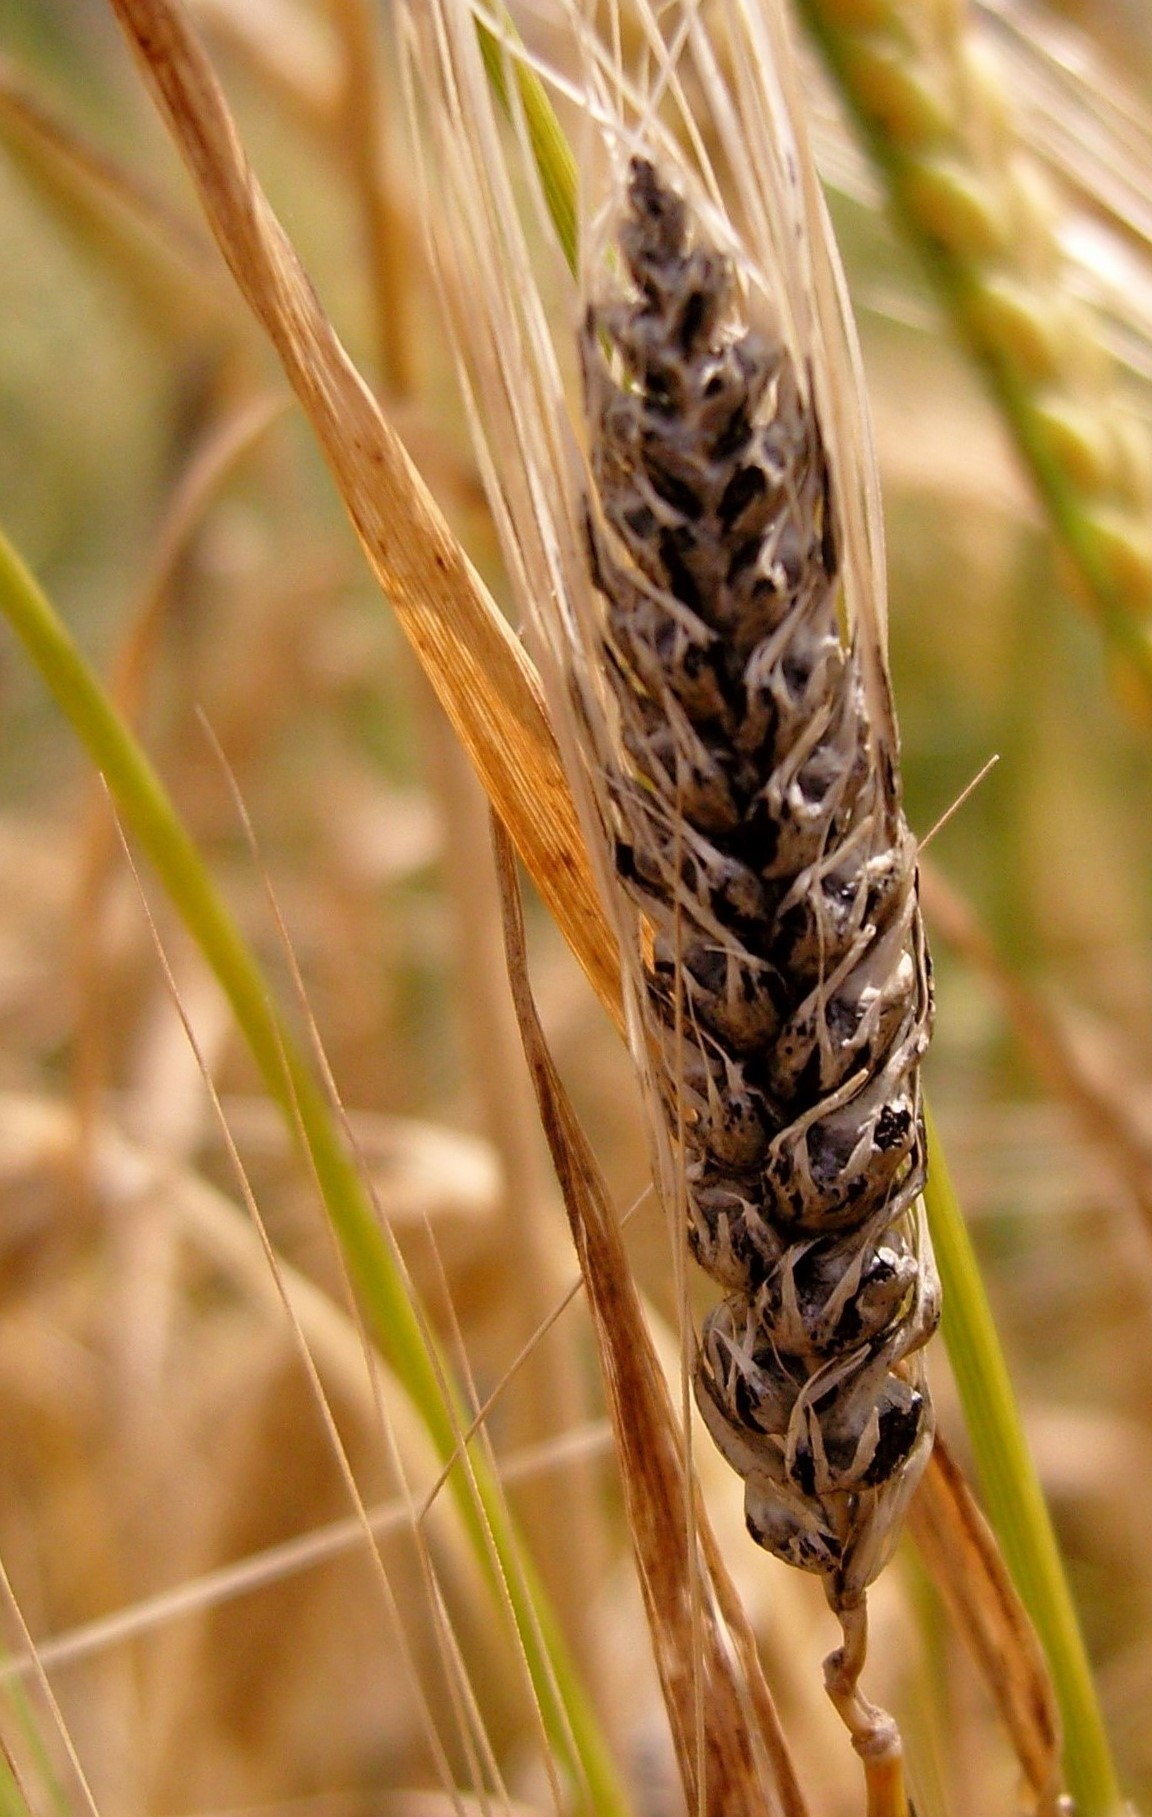Wheat Loose Smut: (498, 184, 1077, 1596)
